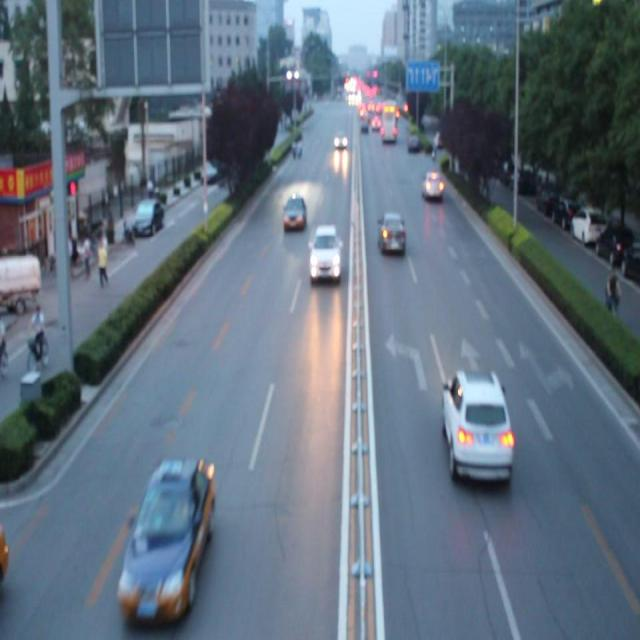car: (118, 456, 218, 620), (440, 369, 511, 482), (309, 223, 342, 283), (377, 212, 407, 256), (282, 192, 306, 232), (420, 169, 444, 201)
